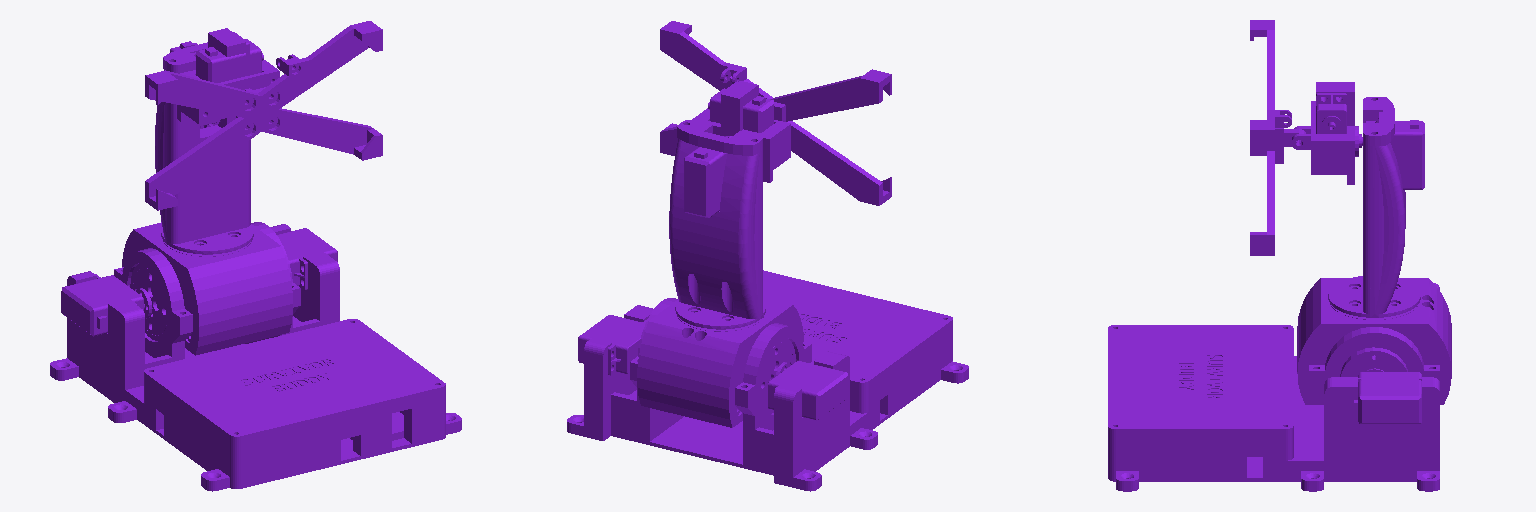
robot.urdf — survivor_buddy:
<?xml version="1.0" ?>
<robot name="survivor_buddy">
    <!-- JOINTS- KINEMATIC DATA -->
    <joint name="base_fixed" type="fixed">
        <origin xyz="-0.035 -0.033 0.0" rpy="0.0 0.0 0.0" />
        <parent link="base_dummy" />
        <child link="base" />
        <axis xyz="0.0 0.0 0.0" />
        <limit lower="0.0" upper="0.0" effort="0.0" velocity="0.0" />
    </joint>
    <joint name="torso_joint" type="revolute">
        <origin xyz="0.0 0.033 .056" rpy="0.0 0.0 0.0" />
        <parent link="base" />
        <child link="torso" />
        <axis xyz="1 0.0 0.0" />
        <limit lower="-1.57" upper="1.2" effort="0.0" velocity="0.0" />
    </joint>
    <joint name="neck_swivel" type="revolute">
        <origin xyz="0.035 0 0.0" rpy="0.0 0.0 0.0" />
        <parent link="torso" />
        <child link="neck" />
        <axis xyz="0.0 0.0 1" />
        <limit lower="-1.57" upper="1.57" effort="0.0" velocity="0.0" />
    </joint>
    <joint name="head_tilt" type="revolute">
        <origin xyz="0.0 0.0 0.15" rpy="0.0 0.0 0.0" />
        <parent link="neck" />
        <child link="head" />
        <axis xyz="0.0 1 0.0" />
        <limit lower="-1.57" upper="1.57" effort="0.0" velocity="0.0" />
    </joint>
    <joint name="head_nod" type="revolute">
        <origin xyz="0.0 -0.049 0" rpy="0.0 0.0 0.0" />
        <parent link="head" />
        <child link="phonemount" />
        <axis xyz="1 0 0.0" />
        <limit lower="-.7" upper=".7" effort="0.0" velocity="0.0" />
    </joint>
    <!-- LINKS- INERTIAL DATA -->
    <link name="base_dummy" />
    <link name="base">
        <inertial>
            <origin xyz="0.0 0.0 0.0" rpy="0.0 0.0 0.0" />
            <mass value="0.0" />
            <inertia ixx="0.0" ixy="0.0" ixz="0.0" iyy="0.0" iyz="0.0" izz="0.0" />
        </inertial>
        <visual name="">
            <origin xyz="0.0 0.0 0.0" rpy="0.0 0.0 0.0" />
            <geometry>
                <mesh filename="package://survivorbuddy_ros/meshes/visual/base.stl" />
            </geometry>
            <material name="">
                <color rgba="0.6 0.2 0.9 1.0" />
            </material>
        </visual>
        <collision>
            <origin xyz="0.0 0.0 0.0" rpy="0.0 0.0 0.0" />
            <geometry>
                <mesh filename="package://survivorbuddy_ros/meshes/collision/base.stl" />
            </geometry>
        </collision>
    </link>
    <link name="torso">
        <inertial>
            <origin xyz="0.0 -0.033 -.056" rpy="0.0 0.0 0.0" />
            <mass value="0.0" />
            <inertia ixx="0.0" ixy="0.0" ixz="0.0" iyy="0.0" iyz="0.0" izz="0.0" />
        </inertial>
        <visual name="">
            <origin xyz="0.0 -0.033 -.056" rpy="0.0 0.0 0.0" />
            <geometry>
                <mesh filename="package://survivorbuddy_ros/meshes/visual/torso.stl" />
            </geometry>
            <material name="">
                <color rgba="0.6 0.2 0.9 1.0" />
            </material>
        </visual>
        <collision>
            <origin xyz="0.0 -0.033 -.056" rpy="0.0 0.0 0.0" />
            <geometry>
                <mesh filename="package://survivorbuddy_ros/meshes/collision/torso.stl" />
            </geometry>
        </collision>
    </link>
    <link name="neck">
        <inertial>
            <origin xyz="-0.035 -0.033 -0.056" rpy="0.0 0.0 0.0" />
            <mass value="0.0" />
            <inertia ixx="0.0" ixy="0.0" ixz="0.0" iyy="0.0" iyz="0.0" izz="0.0" />
        </inertial>
        <visual name="">
            <origin xyz="-0.035 -0.033 -0.056" rpy="0.0 0.0 0.0" />
            <geometry>
                <mesh filename="package://survivorbuddy_ros/meshes/visual/neck.stl" />
            </geometry>
            <material name="">
                <color rgba="0.6 0.2 0.9 1.0" />
            </material>
        </visual>
        <collision>
            <origin xyz="-0.035 -0.033 -0.056" rpy="0.0 0.0 0.0" />
            <geometry>
                <mesh filename="package://survivorbuddy_ros/meshes/collision/neck.stl" />
            </geometry>
        </collision>
    </link>
    <link name="head">
        <inertial>
            <origin xyz="-0.035 -0.033 -0.206" rpy="0.0 0.0 0.0" />
            <mass value="0.0" />
            <inertia ixx="0.0" ixy="0.0" ixz="0.0" iyy="0.0" iyz="0.0" izz="0.0" />
        </inertial>
        <visual name="">
            <origin xyz="-0.035 -0.033 -0.206" rpy="0.0 0.0 0.0" />
            <geometry>
                <mesh filename="package://survivorbuddy_ros/meshes/visual/head.stl" />
            </geometry>
            <material name="">
                <color rgba="0.6 0.2 0.9 1.0" />
            </material>
        </visual>
        <collision>
            <origin xyz="-0.035 -0.033 -0.206" rpy="0.0 0.0 0.0" />
            <geometry>
                <mesh filename="package://survivorbuddy_ros/meshes/collision/head.stl" />
            </geometry>
        </collision>
    </link>
    <link name="phonemount">
        <inertial>
            <origin xyz="-0.035 0.016 -0.206" rpy="0.0 0.0 0.0" />
            <mass value="0.0" />
            <inertia ixx="0.0" ixy="0.0" ixz="0.0" iyy="0.0" iyz="0.0" izz="0.0" />
        </inertial>
        <visual name="">
            <origin xyz="-0.035 0.016 -0.206" rpy="0.0 0.0 0.0" />
            <geometry>
                <mesh filename="package://survivorbuddy_ros/meshes/visual/phonemount-new.stl" />
            </geometry>
            <material name="">
                <color rgba="0.6 0.2 0.9 1.0" />
            </material>
        </visual>
        <collision>
            <origin xyz="-0.035 0.016 -0.206" rpy="0.0 0.0 0.0" />
            <geometry>
                <mesh filename="package://survivorbuddy_ros/meshes/collision/phonemount-new.stl" />
            </geometry>
        </collision>
    </link>
    <transmission name="trans_torso_joint">
        <type>transmission_interface/SimpleTransmission</type>
        <joint name="torso_joint">
            <hardwareInterface>hardware_interface/EffortJointInterface</hardwareInterface>
        </joint>
        <actuator name="torso_joint_motor">
            <hardwareInterface>hardware_interface/EffortJointInterface</hardwareInterface>
            <mechanicalReduction>1</mechanicalReduction>
        </actuator>
    </transmission>
    <transmission name="trans_neck_swivel">
        <type>transmission_interface/SimpleTransmission</type>
        <joint name="neck_swivel">
            <hardwareInterface>hardware_interface/EffortJointInterface</hardwareInterface>
        </joint>
        <actuator name="neck_swivel_motor">
            <hardwareInterface>hardware_interface/EffortJointInterface</hardwareInterface>
            <mechanicalReduction>1</mechanicalReduction>
        </actuator>
    </transmission>
    <transmission name="trans_head_tilt">
        <type>transmission_interface/SimpleTransmission</type>
        <joint name="head_tilt">
            <hardwareInterface>hardware_interface/EffortJointInterface</hardwareInterface>
        </joint>
        <actuator name="head_tilt_motor">
            <hardwareInterface>hardware_interface/EffortJointInterface</hardwareInterface>
            <mechanicalReduction>1</mechanicalReduction>
        </actuator>
    </transmission>
    <transmission name="trans_head_nod">
        <type>transmission_interface/SimpleTransmission</type>
        <joint name="head_nod">
            <hardwareInterface>hardware_interface/EffortJointInterface</hardwareInterface>
        </joint>
        <actuator name="head_nod_motor">
            <hardwareInterface>hardware_interface/EffortJointInterface</hardwareInterface>
            <mechanicalReduction>1</mechanicalReduction>
        </actuator>
    </transmission>
    <gazebo>
        <plugin name="gazebo_ros_control">
            <robotNamespace>/</robotNamespace>
        </plugin>
    </gazebo>
</robot>

--- What the picture shows (computed from the rendered views, not written in the file) ---
3 views of the same robot in one strip: view 1: azimuth 30°, elevation 25°; view 2: azimuth 150°, elevation 25°; view 3: azimuth 270°, elevation 25° (orthographic).
Model survivor_buddy with 6 links and 5 joints (4 revolute, 1 fixed), rooted at base_dummy, posed all joints at 0.
Links seen in each view (by area): view 1: base, phonemount, torso, neck, head; view 2: base, neck, torso, phonemount, head; view 3: base, neck, torso, head, phonemount.
Boxes of the visible links, box(x1,y1,x2,y2) form: base: box(50, 222, 461, 491); phonemount: box(145, 21, 382, 210); torso: box(122, 222, 292, 355); neck: box(155, 41, 253, 254); head: box(177, 28, 279, 124); base: box(567, 270, 968, 491); neck: box(669, 120, 765, 329); torso: box(637, 298, 803, 427); phonemount: box(660, 21, 891, 205); head: box(692, 81, 790, 182); base: box(1108, 283, 1439, 491); neck: box(1328, 97, 1424, 317); torso: box(1297, 278, 1451, 404); head: box(1292, 82, 1361, 184); phonemount: box(1250, 20, 1305, 255).
Bounding box of the posed robot: 0.19 × 0.2225 × 0.253 m (x, y, z).
Meshes: 5 distinct files referenced, 5 mesh visuals loaded (5 binary STL).
